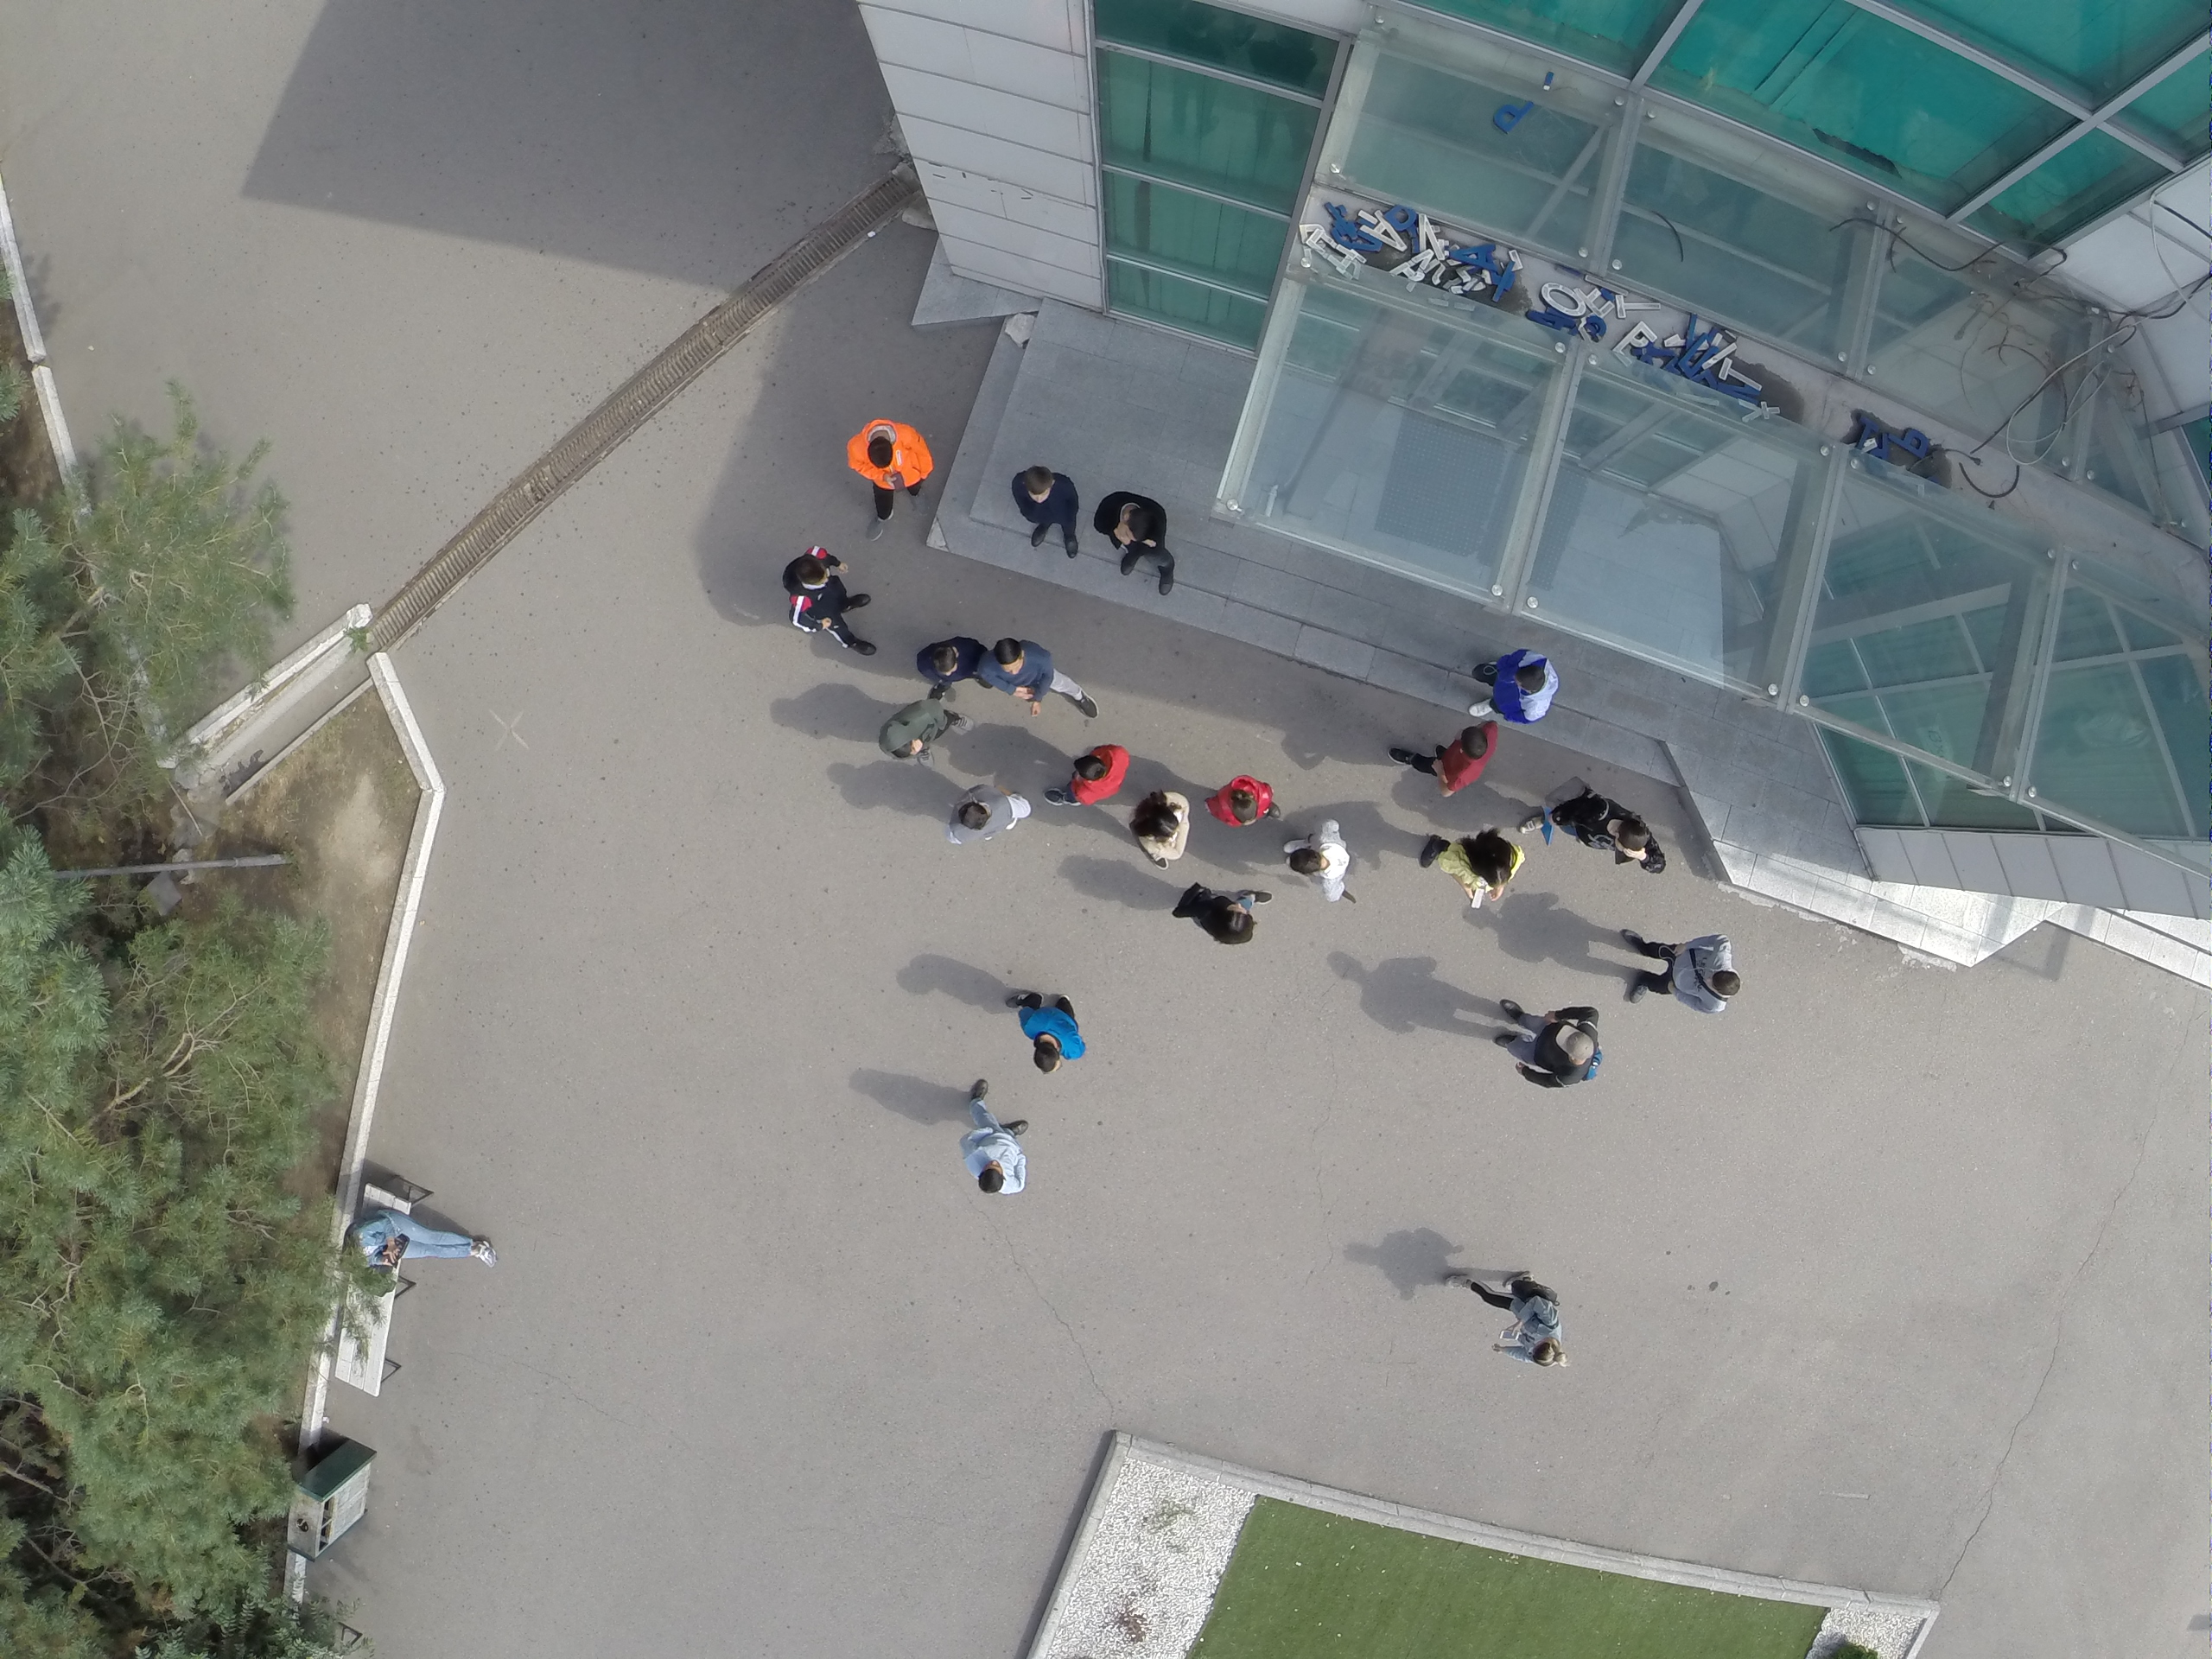person: (1527, 777, 1670, 880), (1621, 908, 1739, 1027), (840, 418, 938, 538), (1456, 1263, 1565, 1372), (779, 543, 879, 658), (1388, 709, 1497, 809), (338, 1207, 498, 1274), (1420, 820, 1529, 916), (986, 632, 1096, 724), (1491, 1001, 1600, 1092), (950, 1079, 1032, 1201), (1097, 484, 1179, 598), (1471, 642, 1560, 724), (874, 696, 969, 772), (1007, 465, 1084, 557), (1007, 989, 1086, 1077), (941, 780, 1032, 854), (1290, 818, 1357, 916), (1173, 887, 1274, 948), (1045, 740, 1127, 814), (1127, 788, 1193, 871), (915, 631, 986, 694), (1206, 772, 1275, 828)
